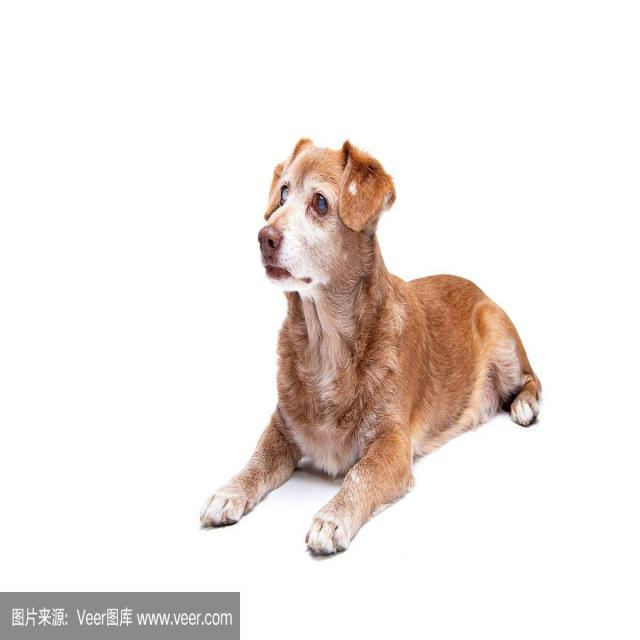eye: (310, 189, 332, 218), (279, 182, 290, 207)
